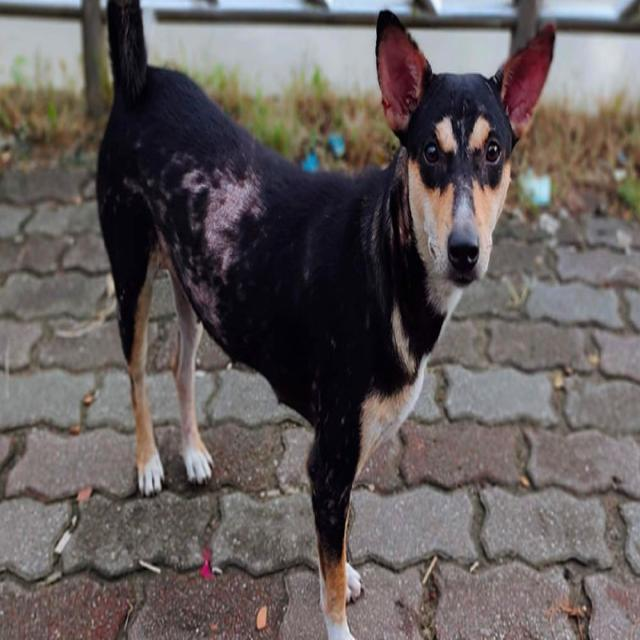mange: (173, 148, 260, 319)
